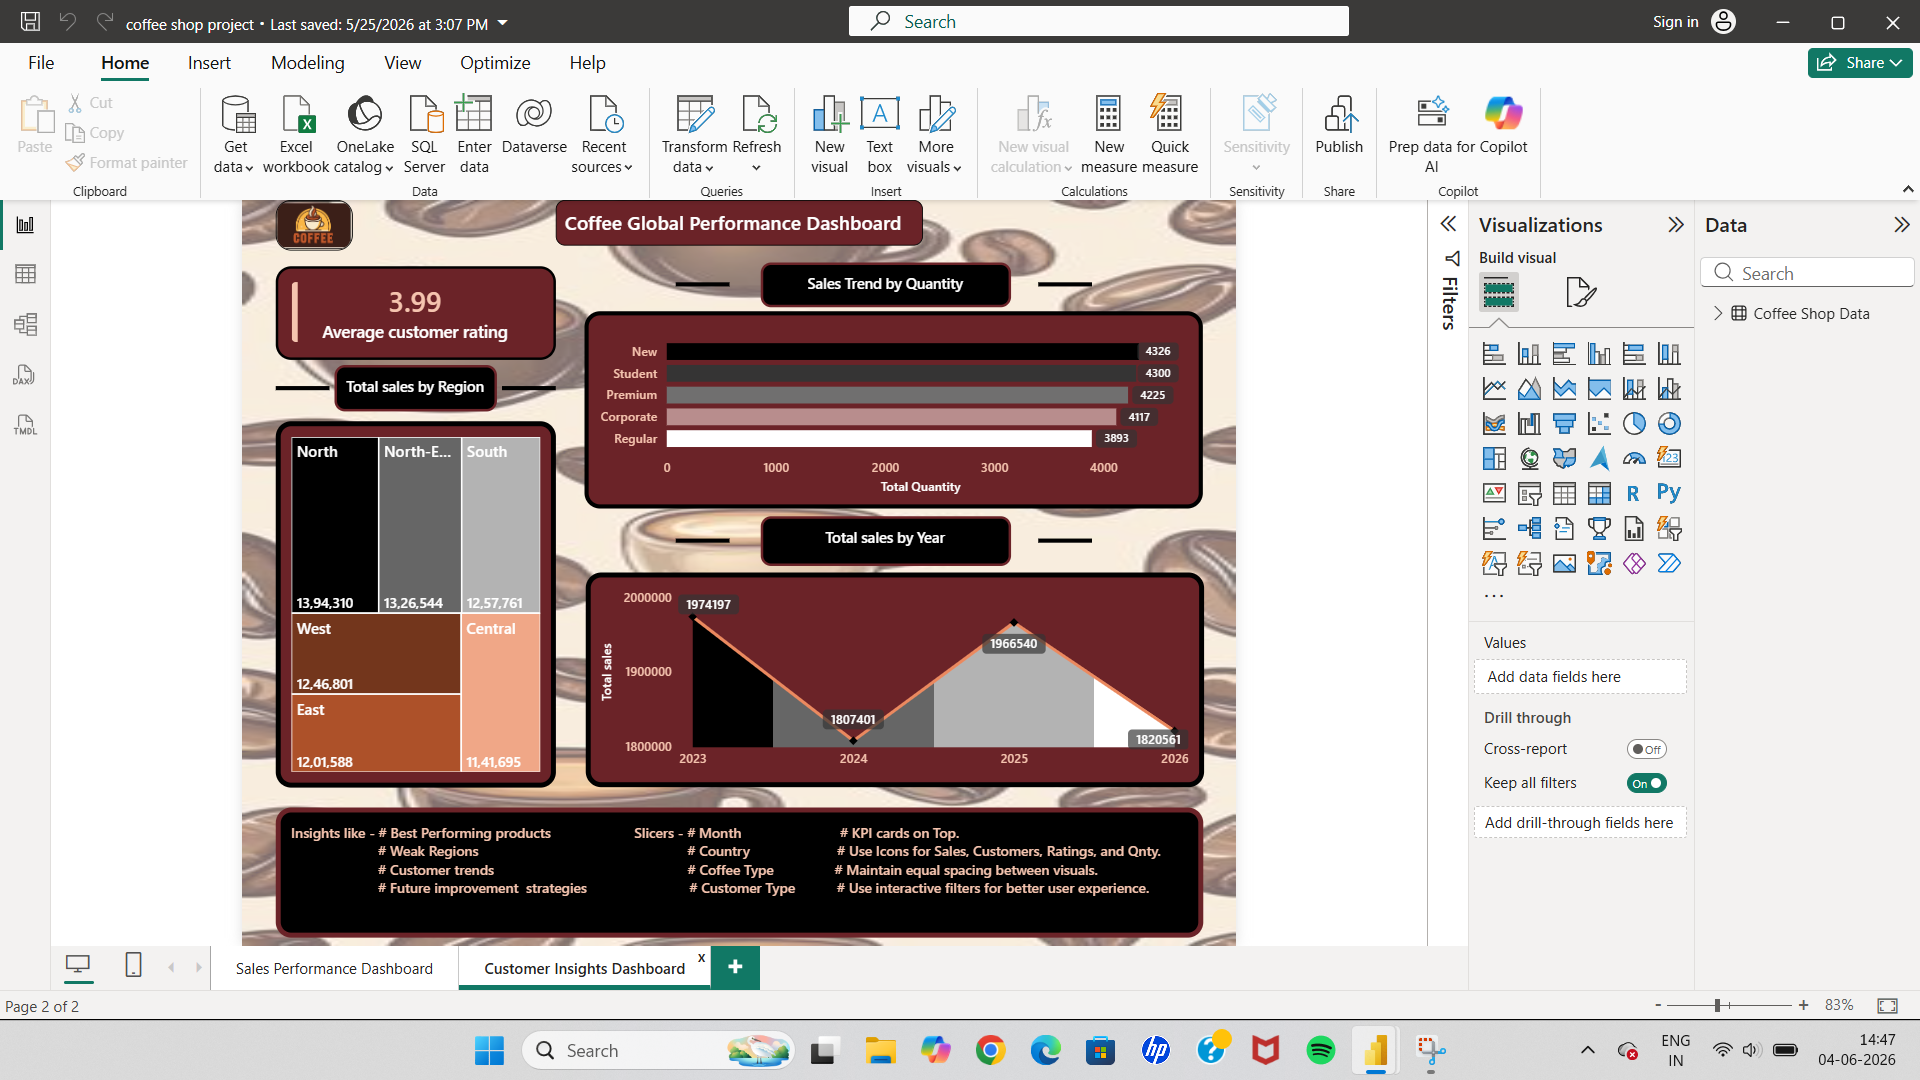

Layout of this report page (visuals, bound fields, positions):
{"tool":"powerbi","page":{"name":"Customer Insights Dashboard","canvas":[960,720],"ordinal":1},"visuals":[{"type":"textbox","box":[302.7,0,354.6,44],"z":0},{"type":"image","box":[32.1,0,74.4,48.7],"z":1000},{"type":"cardVisual","fields":{"Data":["Coffee Shop Data.average customer rating"]},"box":[32.6,63.9,270.2,90],"z":2000},{"type":"treemap","fields":{"Values":["Coffee Shop Data.total sales"],"Group":["Coffee Shop Data.Region"]},"box":[32.6,213.5,270.2,353.5],"z":3000},{"type":"barChart","fields":{"Category":["Coffee Shop Data.Customer Type"],"Y":["Coffee Shop Data.Total Quantity"]},"box":[330.6,107.4,597.2,190.6],"z":4000},{"type":"areaChart","fields":{"Category":["Coffee Shop Data.Year"],"Y":["Coffee Shop Data.total sales"]},"box":[331.8,359.5,597.2,207.5],"z":5000},{"type":"textbox","box":[32.6,586.3,895.2,125.5],"z":6000},{"type":"textbox","box":[500.7,60.3,241.3,43.4],"z":7000},{"type":"shape","box":[768.5,70,51.9,22.9],"z":8000},{"type":"shape","box":[418.6,70,51.9,22.9],"z":9000},{"type":"textbox","box":[500.7,305.2,241.3,48.3],"z":10000},{"type":"shape","box":[418.6,317.3,51.9,22.9],"z":11000},{"type":"shape","box":[768.5,317.3,51.9,22.9],"z":12000},{"type":"textbox","box":[89.3,159.3,156.8,44.6],"z":13000},{"type":"shape","box":[32.6,170.1,51.9,22.9],"z":14000},{"type":"shape","box":[250.9,170.1,51.9,22.9],"z":15000}]}

Visuals, with their boxes on the page's 960x720 design canvas (x1, y1, x2, y2). These are canvas units, not pixel positions in the 1920x1080 screenshot, which may show the page scaled, cropped or inside an application window:
textbox: <box>303,0,657,44</box>
image: <box>32,0,106,49</box>
cardVisual - Coffee Shop Data.average customer rating: <box>33,64,303,154</box>
treemap - Coffee Shop Data.total sales x Coffee Shop Data.Region: <box>33,214,303,567</box>
barChart - Coffee Shop Data.Customer Type x Coffee Shop Data.Total Quantity: <box>331,107,928,298</box>
areaChart - Coffee Shop Data.Year x Coffee Shop Data.total sales: <box>332,360,929,567</box>
textbox: <box>33,586,928,712</box>
textbox: <box>501,60,742,104</box>
shape: <box>768,70,820,93</box>
shape: <box>419,70,470,93</box>
textbox: <box>501,305,742,354</box>
shape: <box>419,317,470,340</box>
shape: <box>768,317,820,340</box>
textbox: <box>89,159,246,204</box>
shape: <box>33,170,84,193</box>
shape: <box>251,170,303,193</box>
